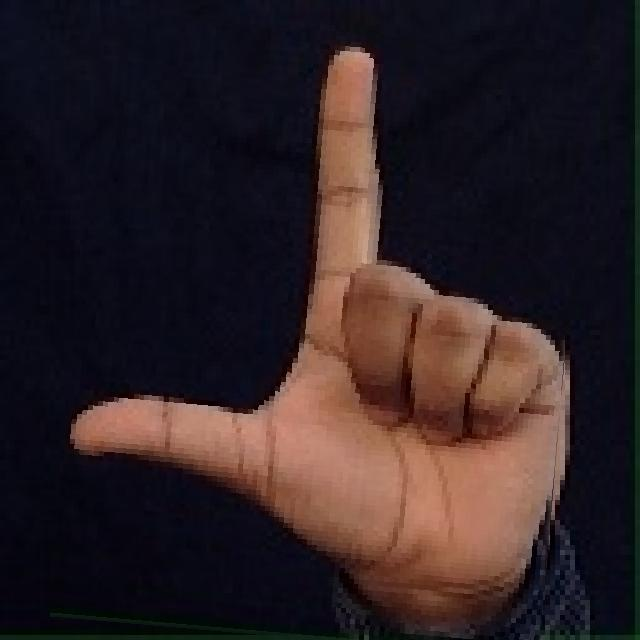L: (62, 21, 578, 640)
